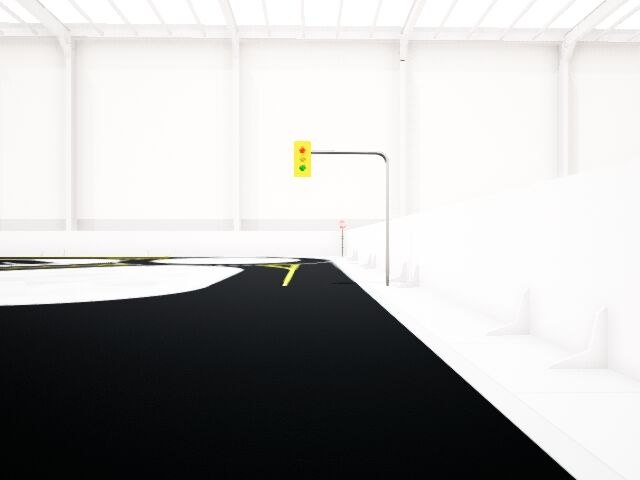red: (292, 140, 310, 178)
